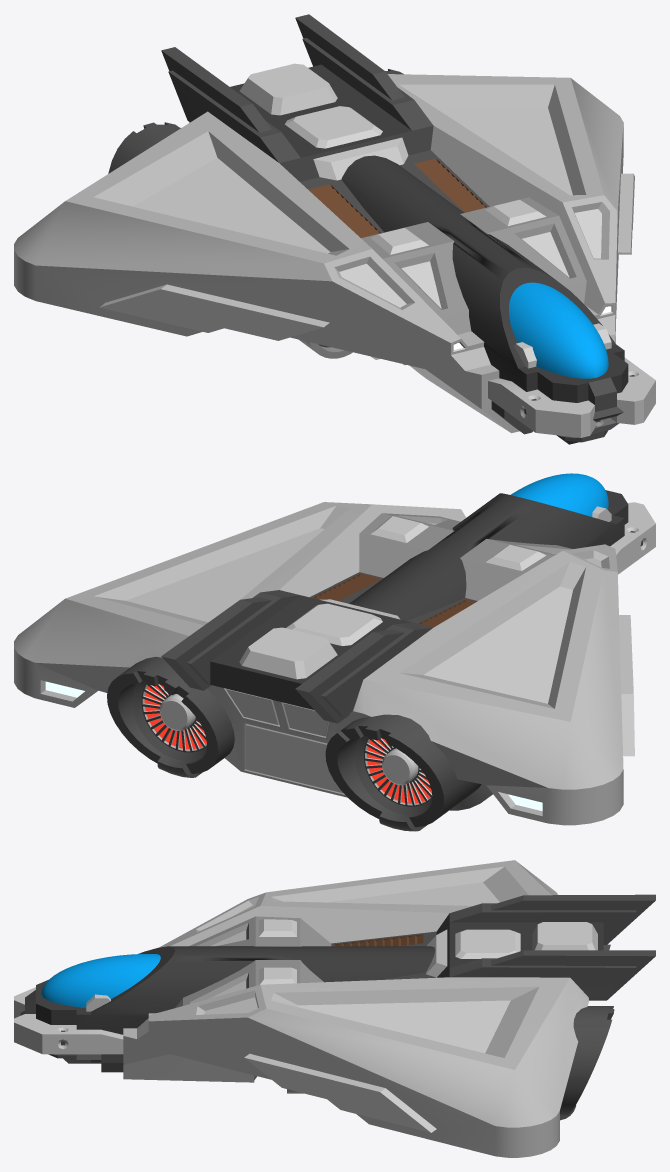
File: Gunboat.fbx
3 views of the same model, one above another, from view 1: azimuth 30°, elevation 25°; view 2: azimuth 150°, elevation 25°; view 3: azimuth 270°, elevation 25° (orthographic). The views are drawn at different scales.
Parts seen in each view (by area): view 1: Mesh_HD; view 2: Mesh_HD; view 3: Mesh_HD.
Part boxes in pixels (<box>): Mesh_HD: <box>14,14,655,444</box>; Mesh_HD: <box>14,473,655,831</box>; Mesh_HD: <box>14,860,655,1157</box>.
Bounding box in the file's own units: 295 × 82.5 × 323.
